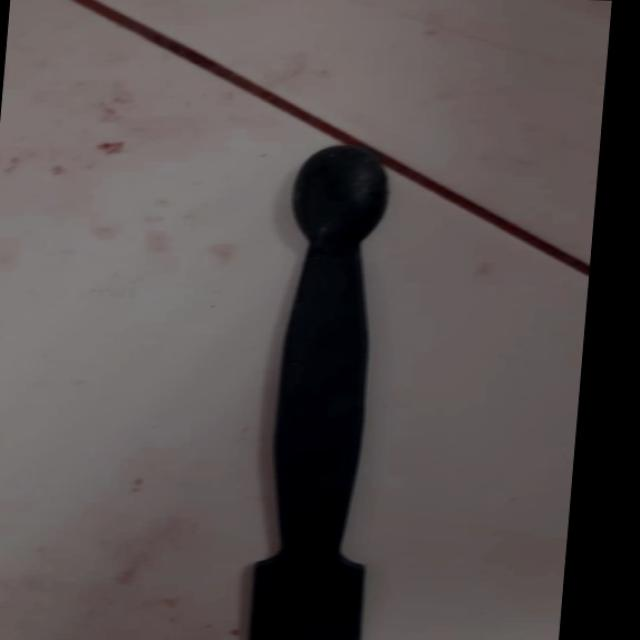Spatula: (223, 131, 406, 640)
